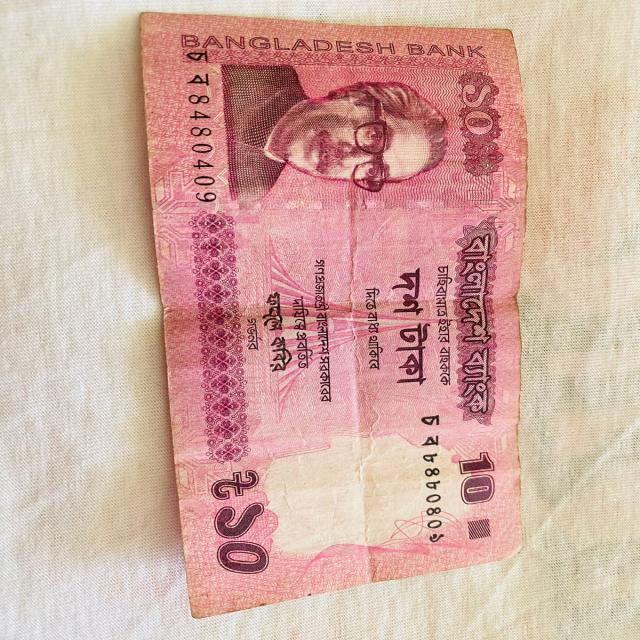Taka: (132, 9, 524, 607)
